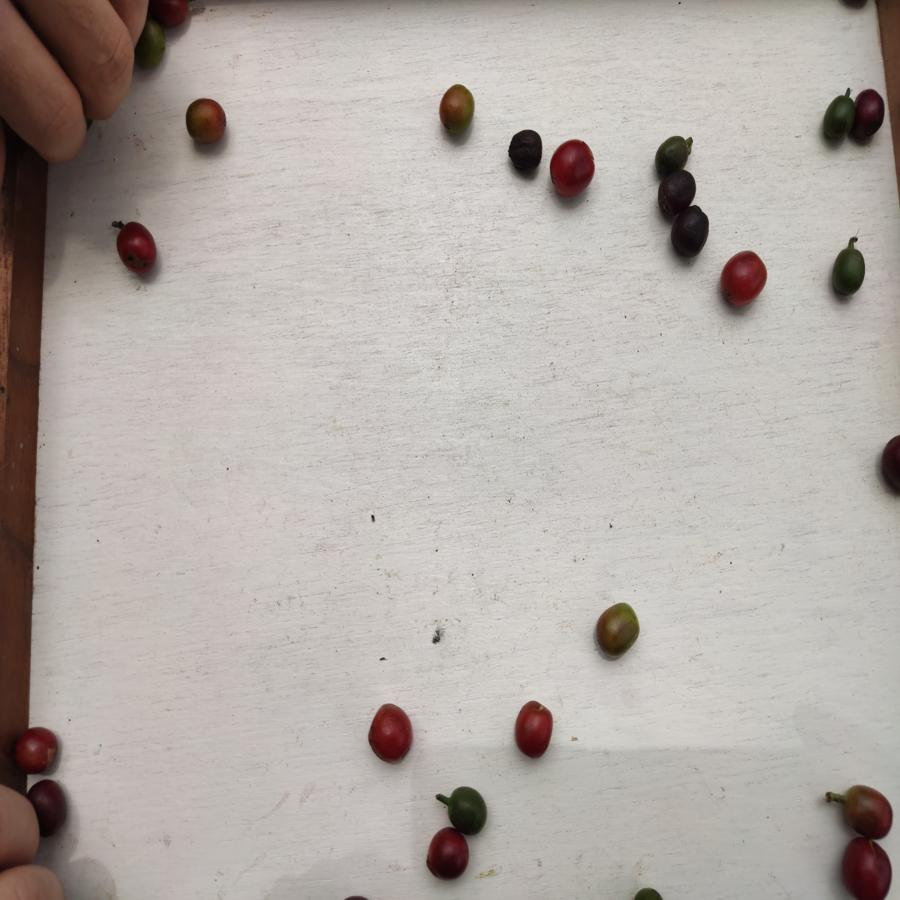Inmaduro: (830, 246, 868, 302), (450, 786, 488, 832), (823, 95, 853, 144), (655, 136, 692, 173)
Maduro: (366, 702, 416, 766), (844, 837, 894, 900), (720, 248, 769, 308), (549, 138, 596, 199), (180, 97, 231, 147), (115, 221, 159, 276), (13, 724, 62, 773), (514, 700, 555, 758)
Pinton: (835, 778, 896, 837), (595, 602, 641, 657), (439, 84, 476, 137)
Sobremaduro: (671, 204, 713, 261), (424, 830, 470, 881), (505, 129, 545, 177), (852, 89, 887, 139), (656, 173, 697, 211), (39, 777, 66, 832)
